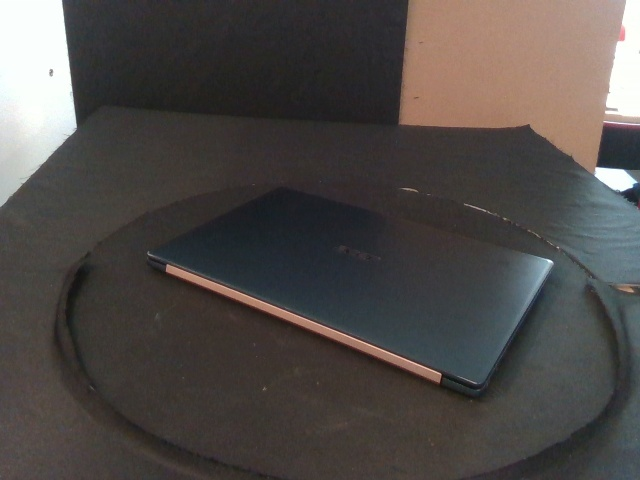laptop: (146, 185, 554, 399)
